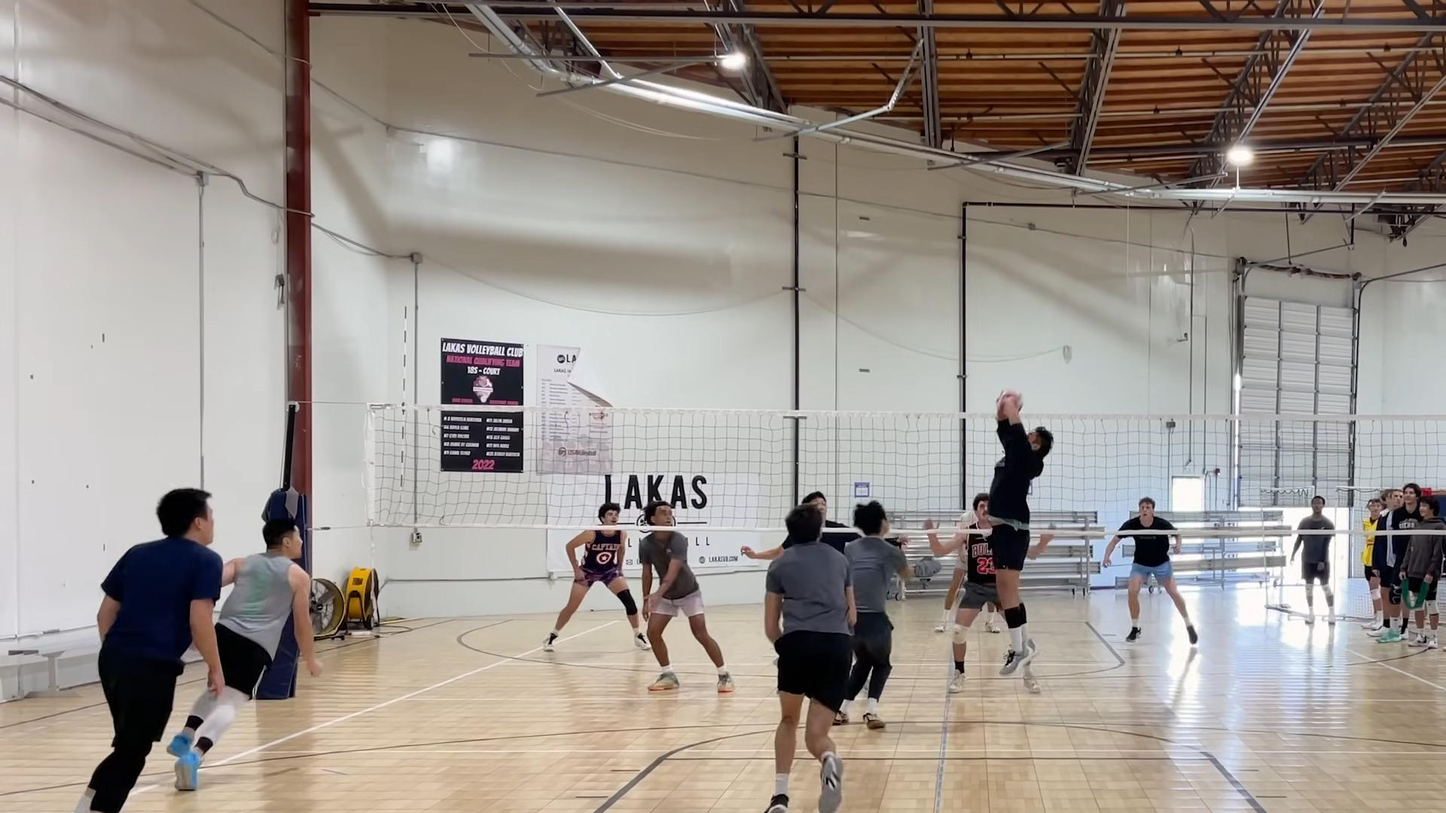alzata: (972, 403, 1058, 676)
